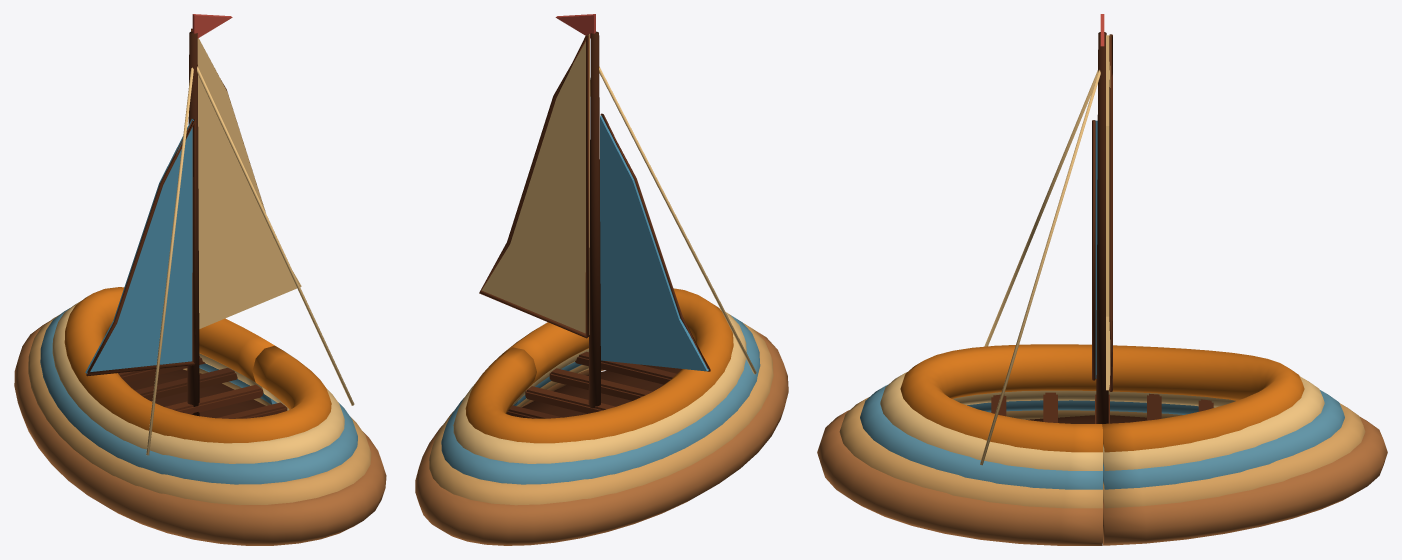
The model's file is sailboat-tkZGTua9.glb.
3 renders of one model, left to right at view 1: azimuth 30°, elevation 25°; view 2: azimuth 150°, elevation 25°; view 3: azimuth 270°, elevation 25°, orthographic. The views are drawn at different scales.
Visible parts, largest first — view 1: sailboat; view 2: sailboat; view 3: sailboat.
Boxes of the visible parts, bbox=[...] form: sailboat: bbox=[14, 14, 386, 545]; sailboat: bbox=[415, 14, 788, 545]; sailboat: bbox=[817, 14, 1387, 545].
Size of the model in its own units: 2.55 by 4.3 by 4.6.
